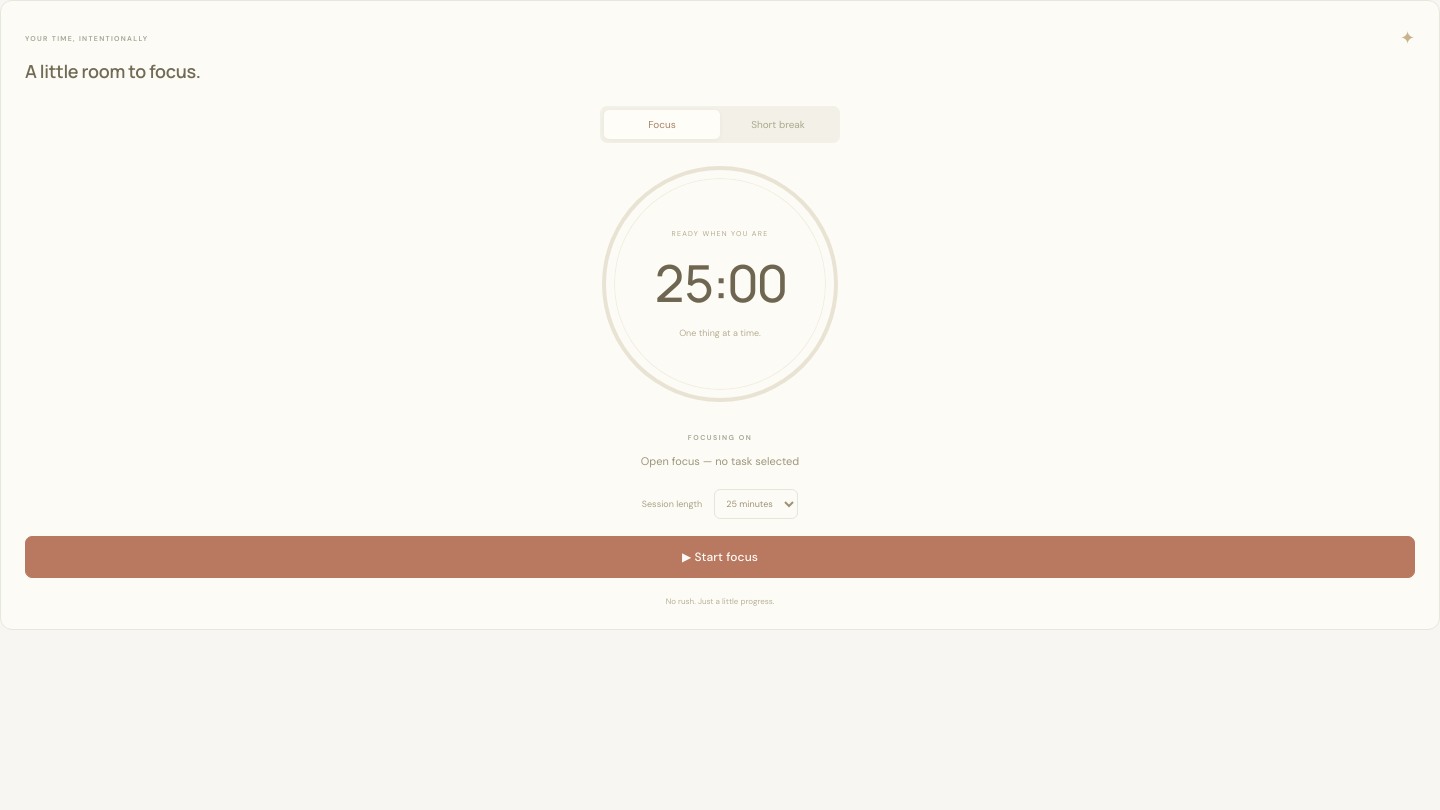
Test: ends a session through the visible confirmation (paused: false)
Click the button "▶ Start focus" at {"x": 720, "y": 557}, box [25,536,1415,578]
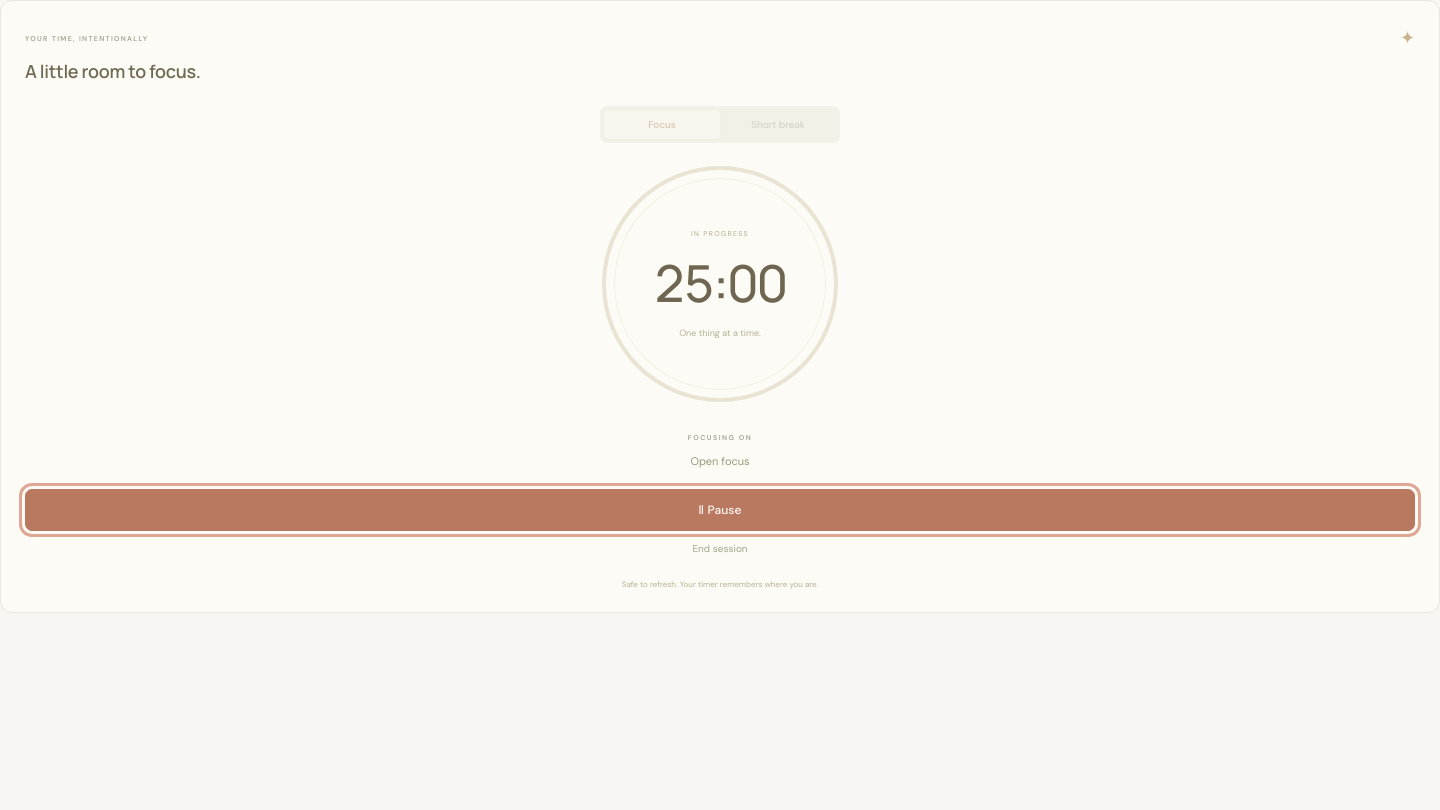
Click the button "End session" at {"x": 720, "y": 548}, box [686,536,754,561]
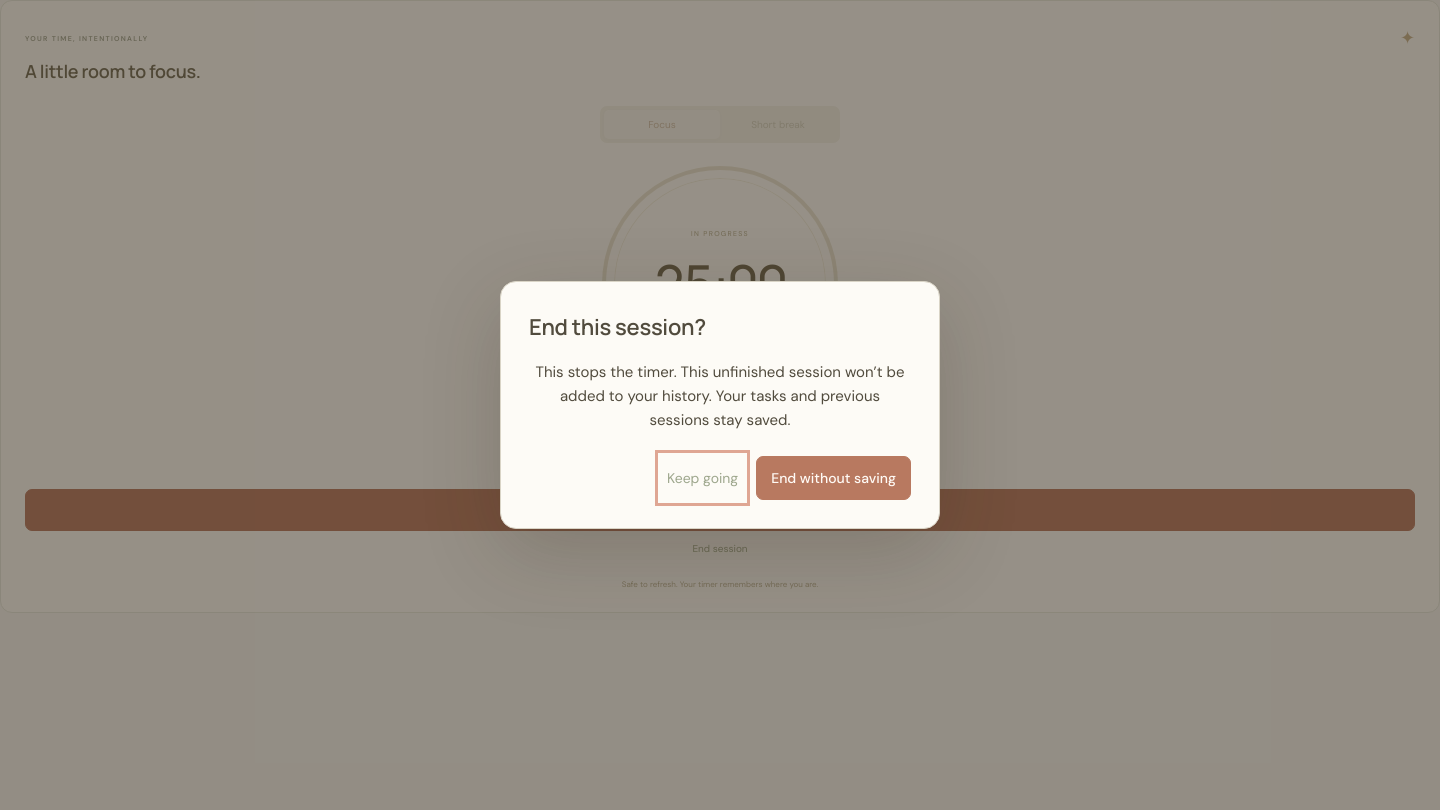
Expected: the dialog "End this session?" is shown, [500,281,940,529]
Click the button "Keep going" at {"x": 703, "y": 478}, box [661,456,744,500]
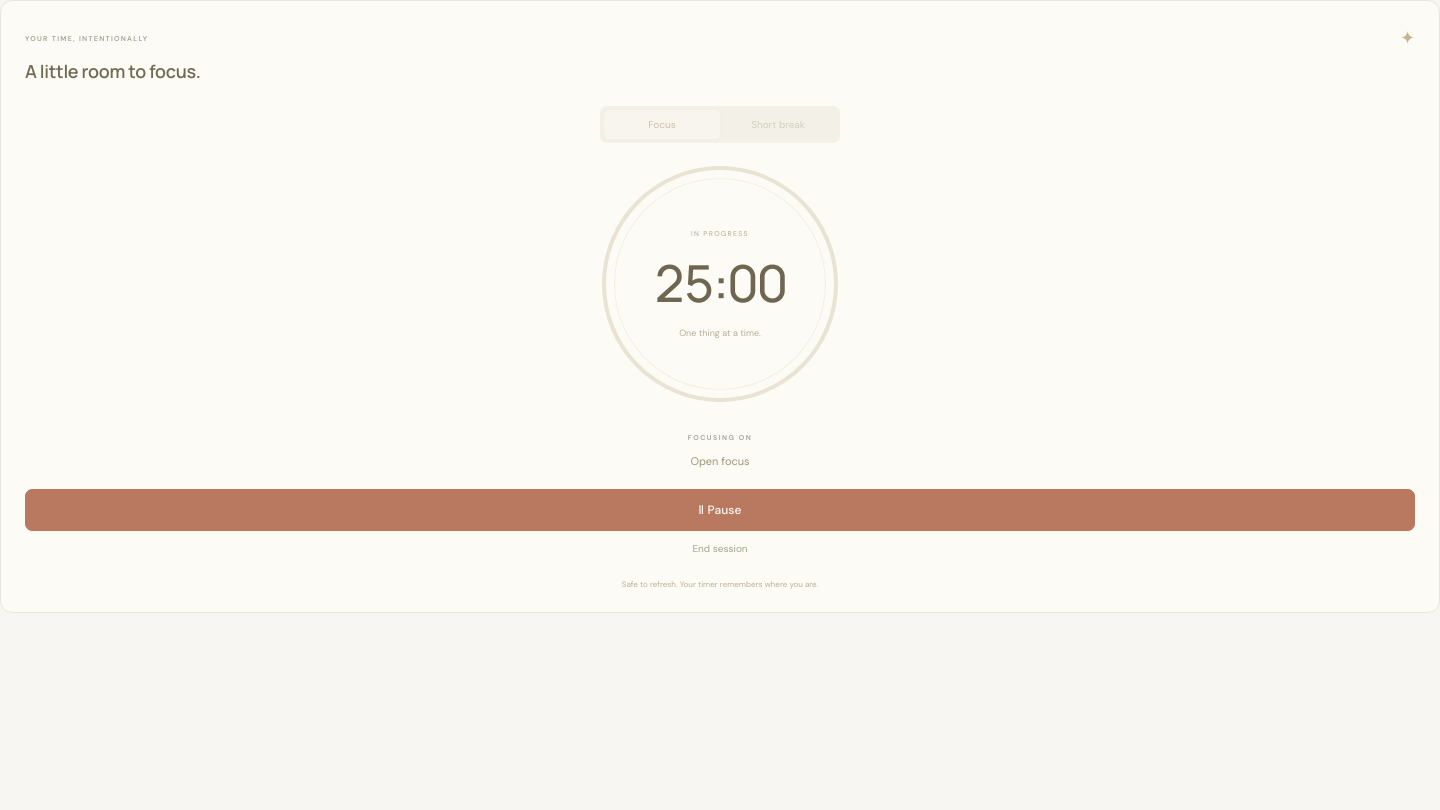
Expected: the dialog is gone
Click the button "End session" at {"x": 720, "y": 548}, box [686,536,754,561]
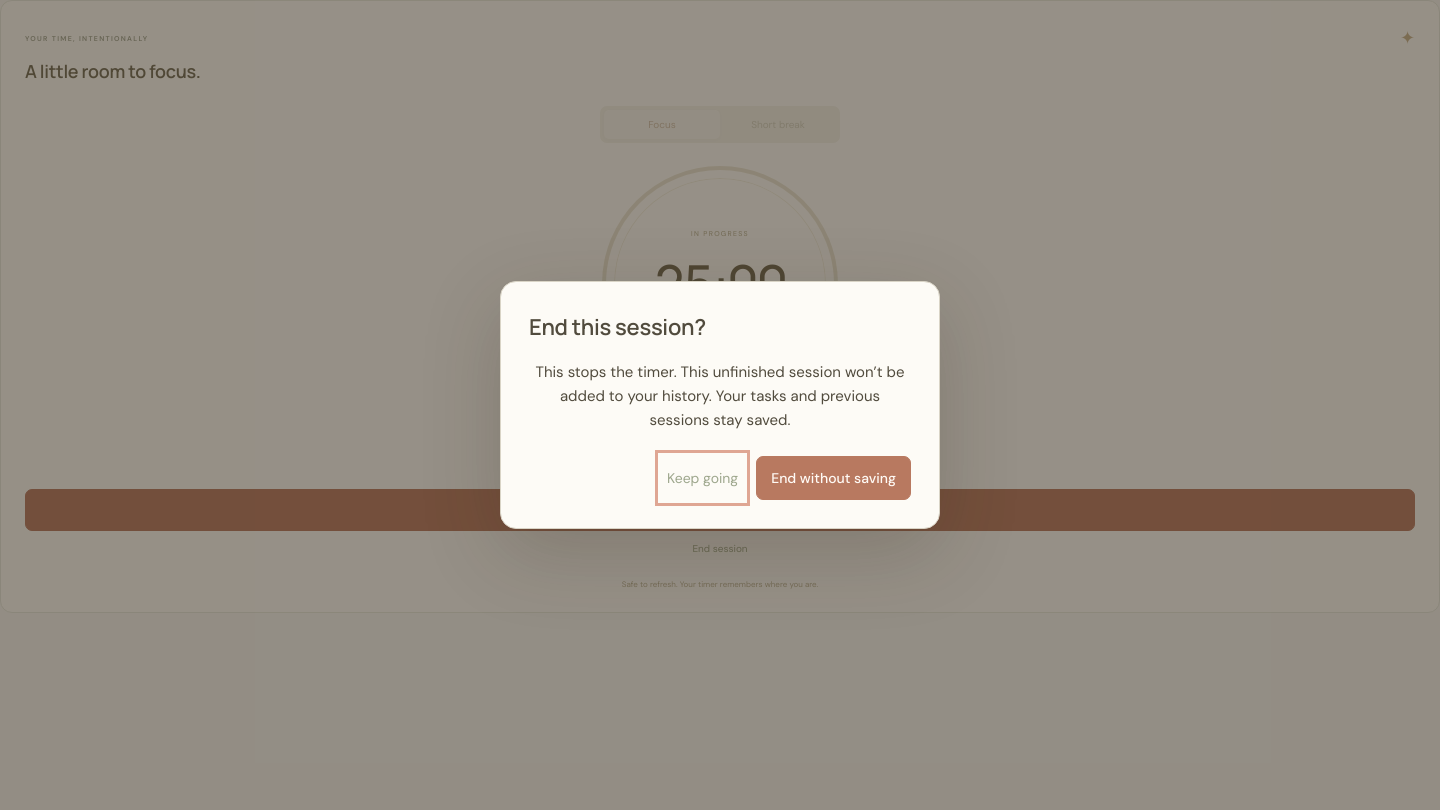
Click the button "End without saving" at {"x": 834, "y": 478}, box [756,456,911,500]
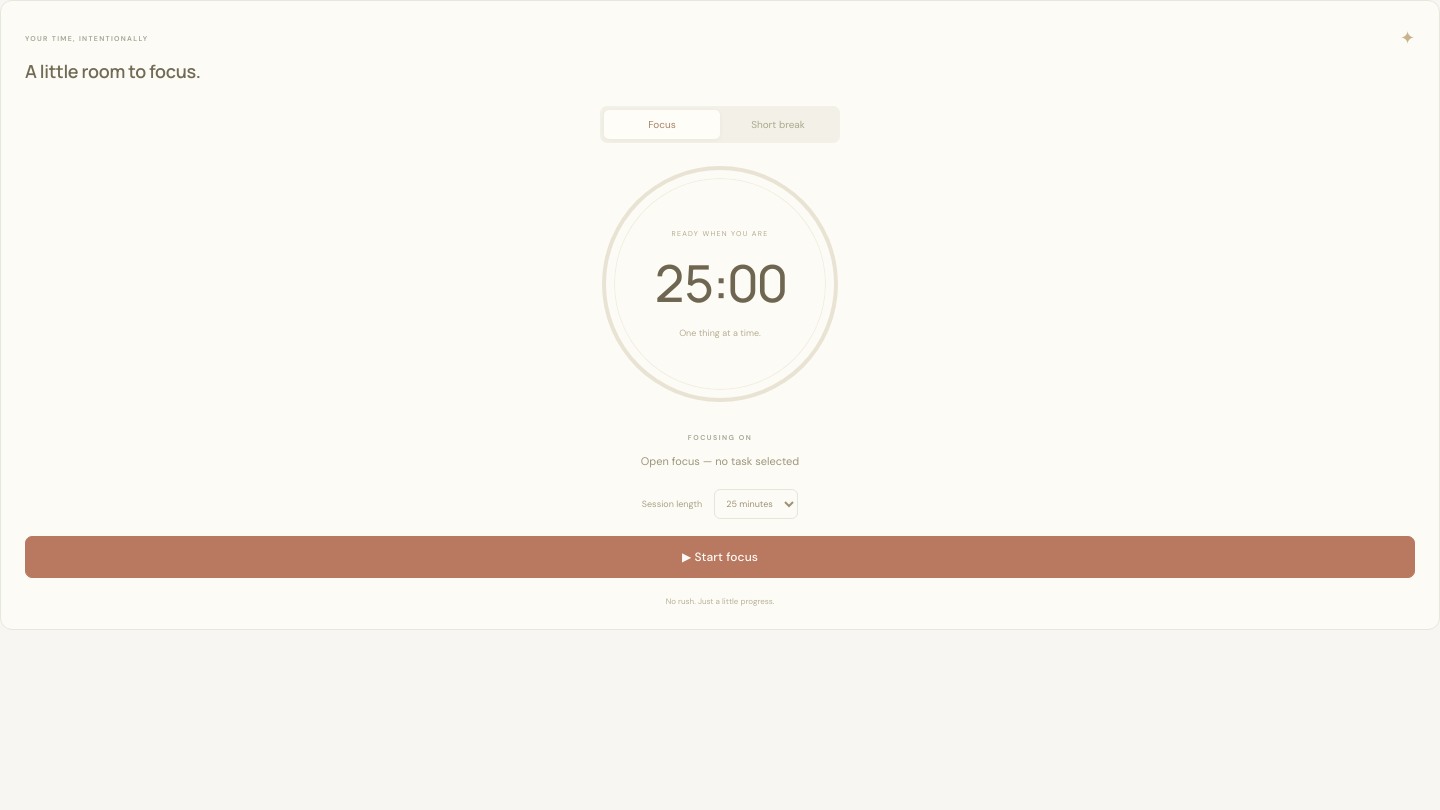
Expected: the button "▶ Start focus" is shown, [25,536,1415,578]
